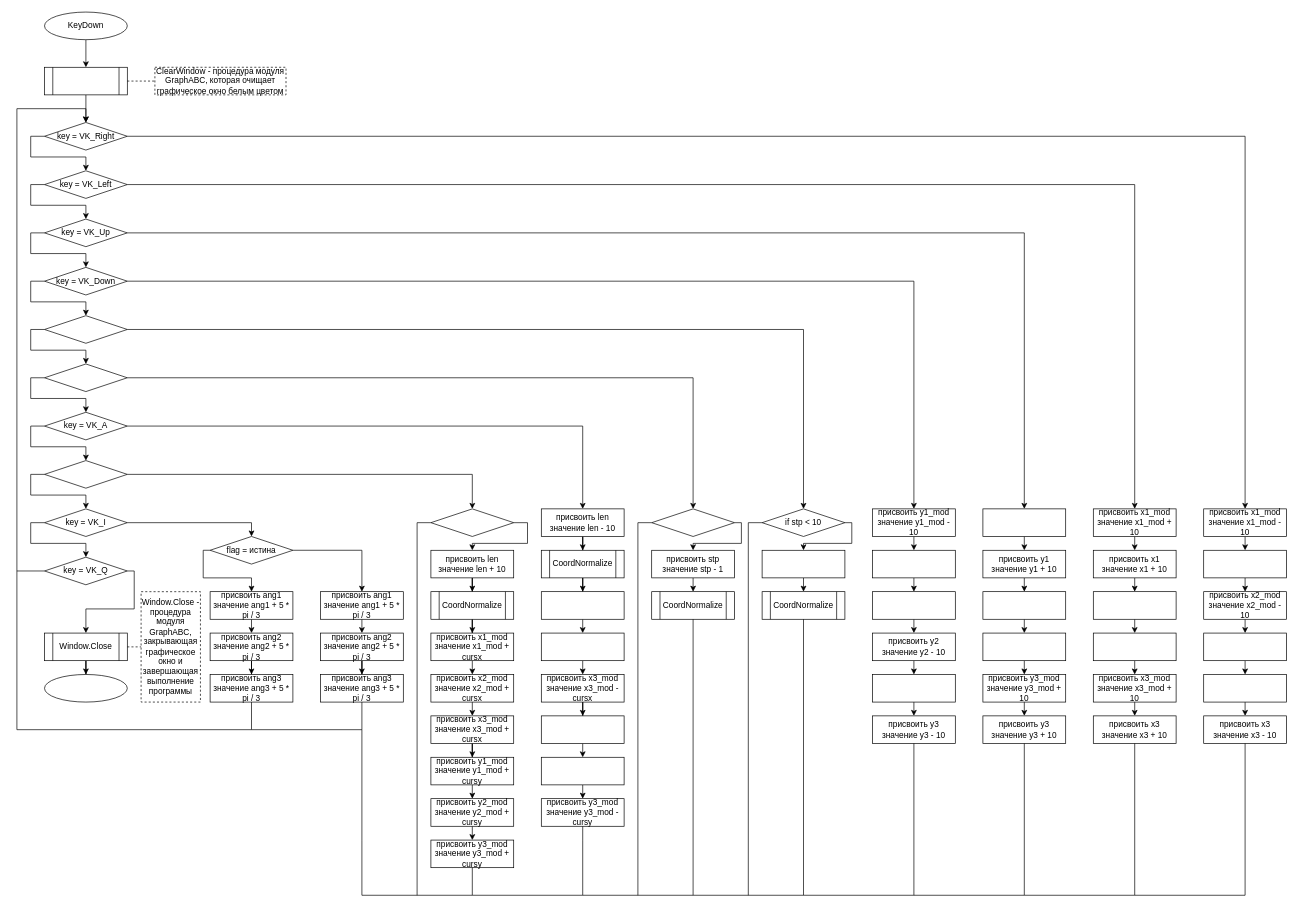
Image size: 1299x908. Some labels were removed from this diagram. The box of each missing label's shape, as (x1, y1, x2, y2) in pixels:
ClearWindow: (44, 67, 127, 95)
if len > 100: (430, 508, 514, 536)
if stp > 0: (651, 508, 735, 536)
key = VK_D: (44, 460, 127, 488)
key = VK_S: (44, 363, 127, 392)
key = VK_W: (44, 315, 127, 343)
конец: (44, 674, 127, 702)
присвоить stp значение stp + 1: (761, 550, 845, 578)
присвоить x1 значение x1 - 10: (1203, 550, 1287, 578)
присвоить x1_mod значение x1_mod - cursx: (541, 591, 624, 619)
присвоить x2 значение x2 + 10: (1093, 632, 1176, 661)
присвоить x2 значение x2 - 10: (1203, 632, 1287, 661)
присвоить x2_mod значение x2_mod + 10: (1093, 591, 1176, 619)
присвоить x2_mod значение x2_mod - cursx: (541, 632, 624, 661)
присвоить x3_mod значение x3_mod - 10: (1203, 674, 1287, 702)
присвоить y1 значение y1 - 10: (872, 550, 955, 578)
присвоить y1_mod значение y1_mod + 10: (982, 508, 1066, 536)
присвоить y1_mod значение y1_mod - cursy: (541, 715, 624, 743)
присвоить y2 значение y2 + 10: (982, 632, 1066, 661)
присвоить y2_mod значение y2_mod + 10: (982, 591, 1066, 619)
присвоить y2_mod значение y2_mod - 10: (872, 591, 955, 619)
присвоить y2_mod значение y2_mod - cursy: (541, 757, 624, 785)
присвоить y3_mod значение y3_mod - 10: (872, 674, 955, 702)
